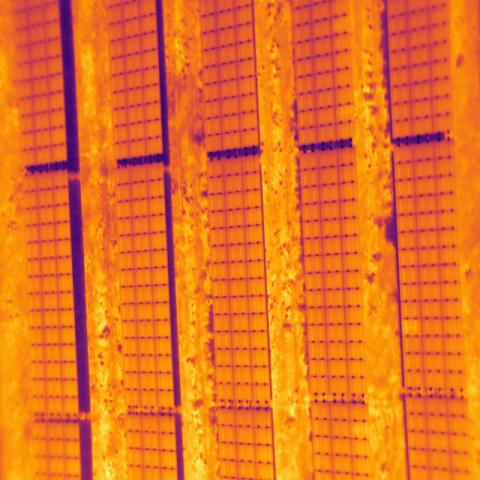fault: (401, 318, 420, 335)
